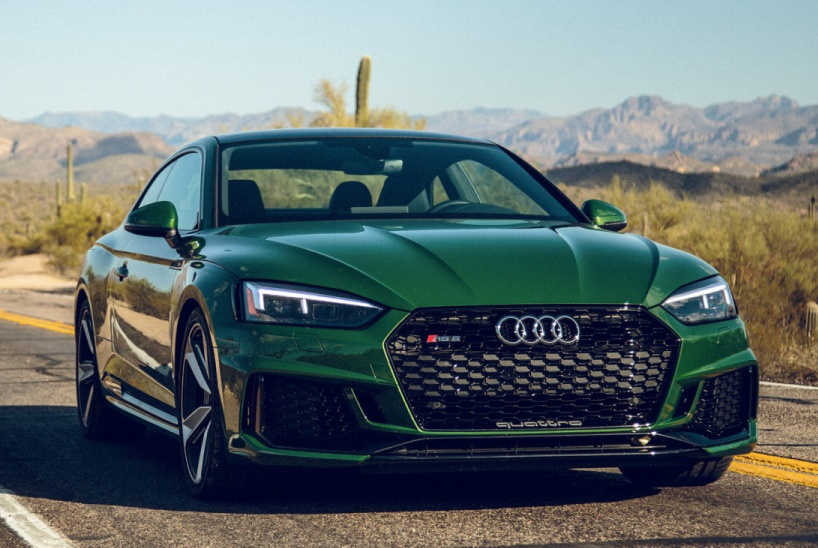audi: (491, 307, 590, 358)
